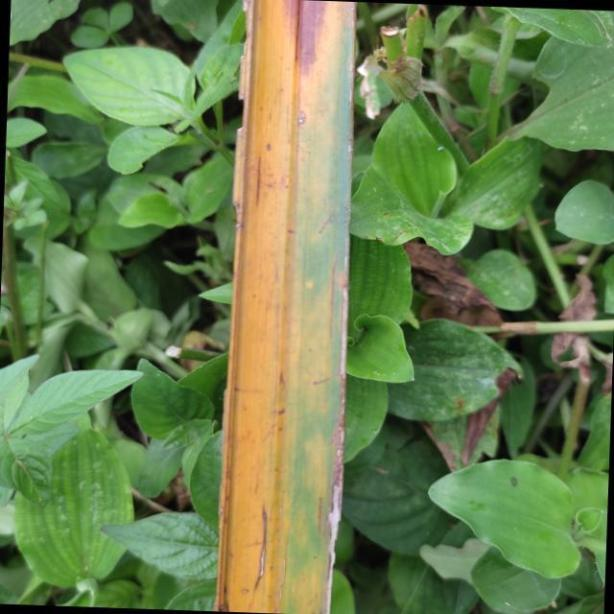Megnesium: (213, 0, 353, 614)
